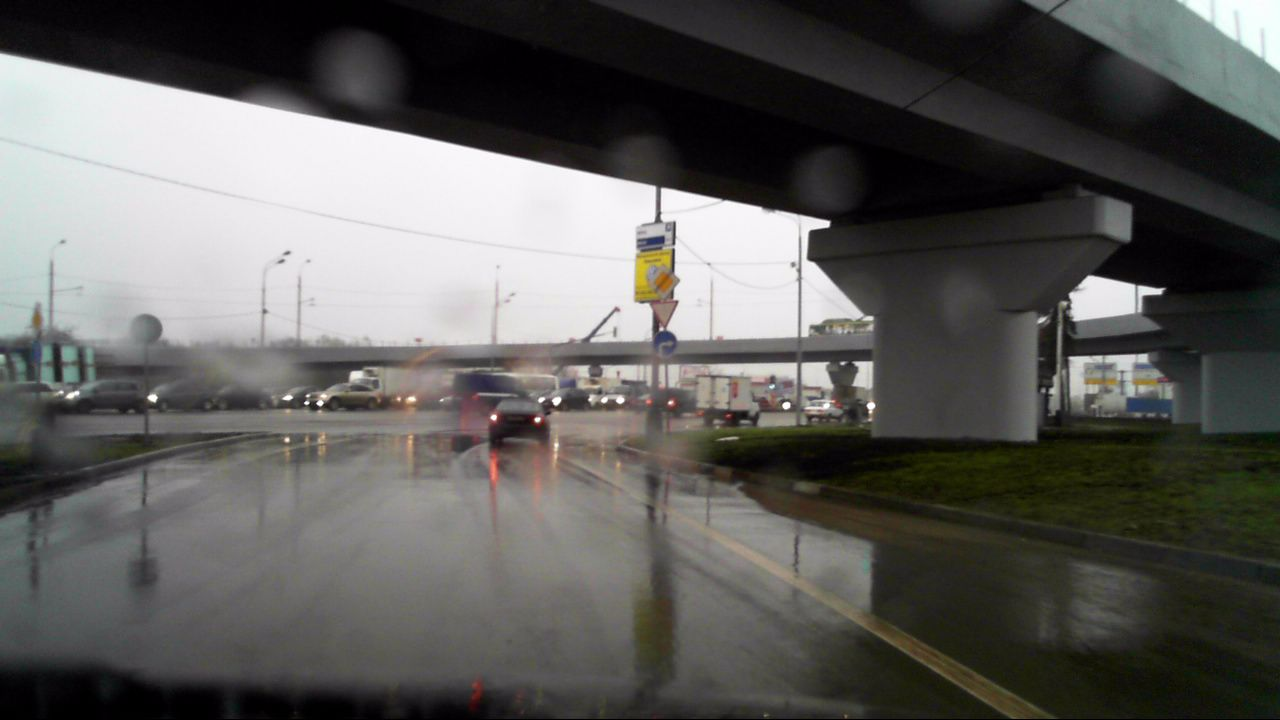main road: (648, 264, 680, 297)
